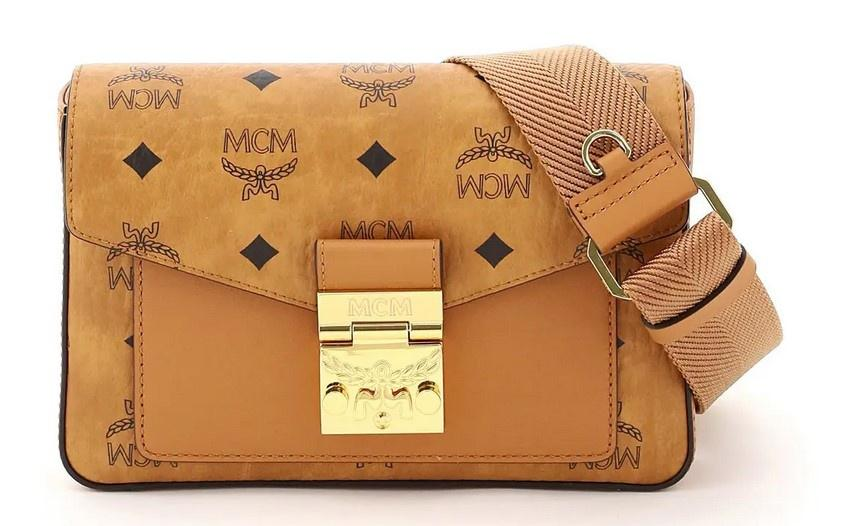MCM: (69, 64, 700, 484)
